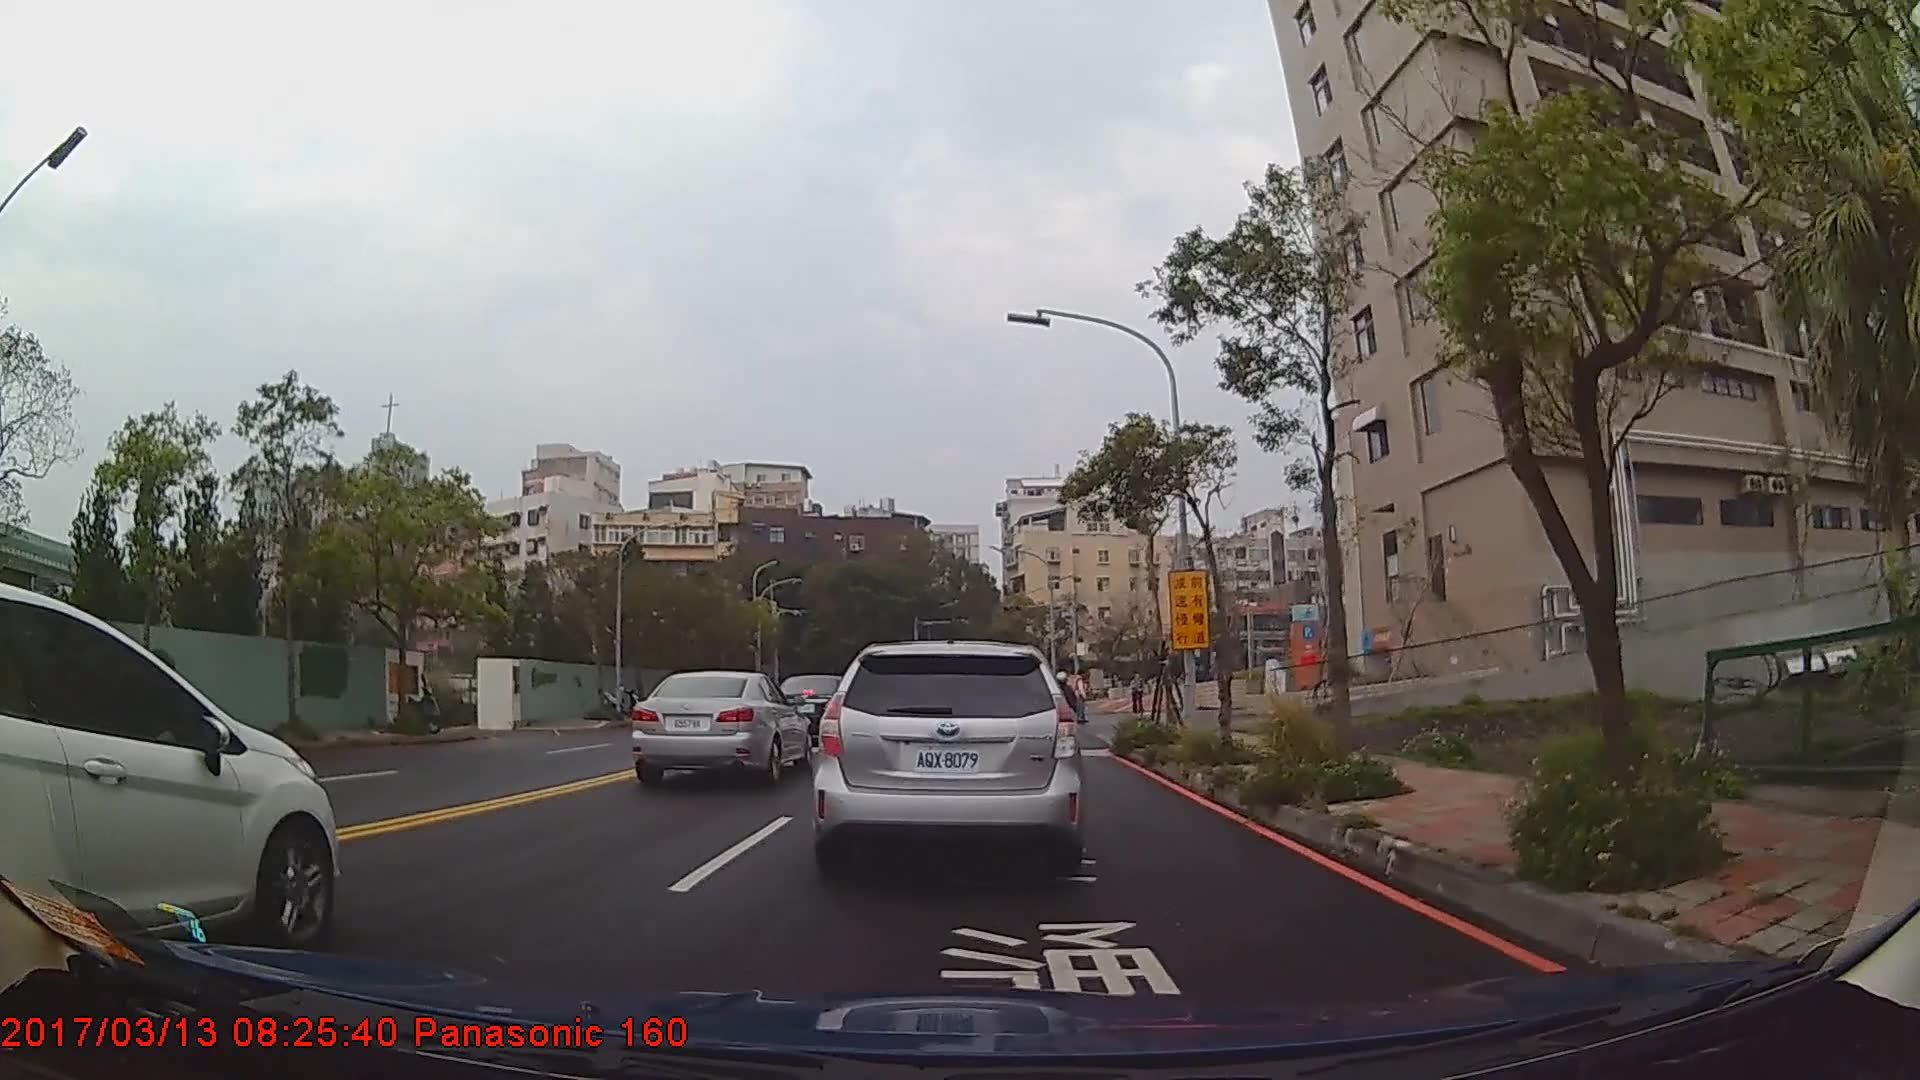pedestrian: (1072, 669, 1092, 726)
vehicle: (0, 580, 340, 951), (814, 638, 1082, 872), (629, 671, 813, 790)
